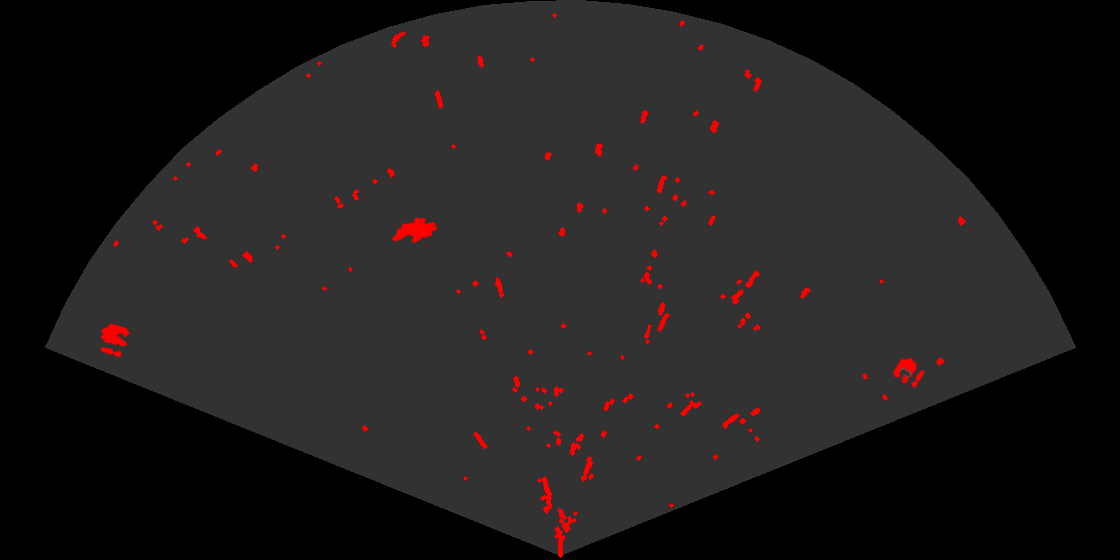AUV: (390, 216, 439, 244)
ball: (99, 322, 131, 359), (891, 356, 926, 389)
